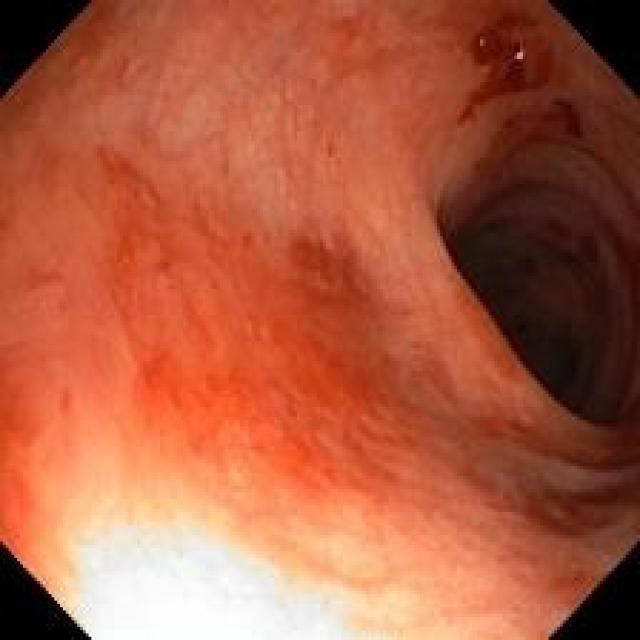blood: (462, 14, 556, 123), (556, 100, 585, 138)
contrast: (486, 188, 627, 371)
saturation: (68, 518, 368, 639)
